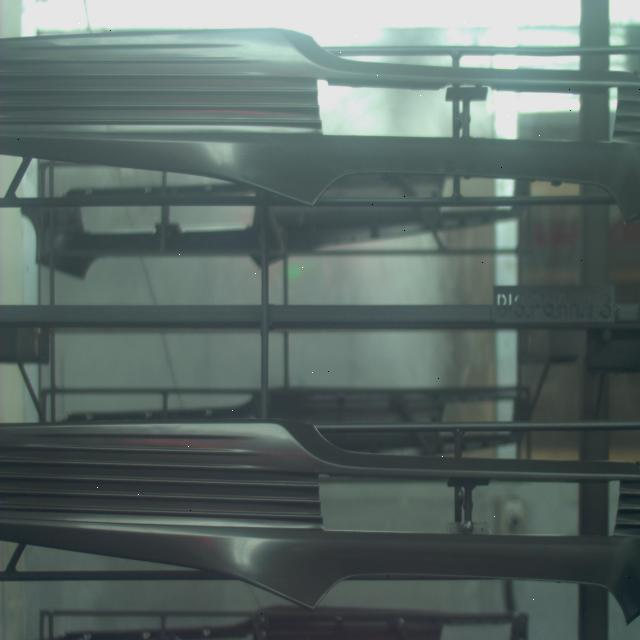Non_primered: (0, 415, 640, 617), (0, 29, 640, 216)
